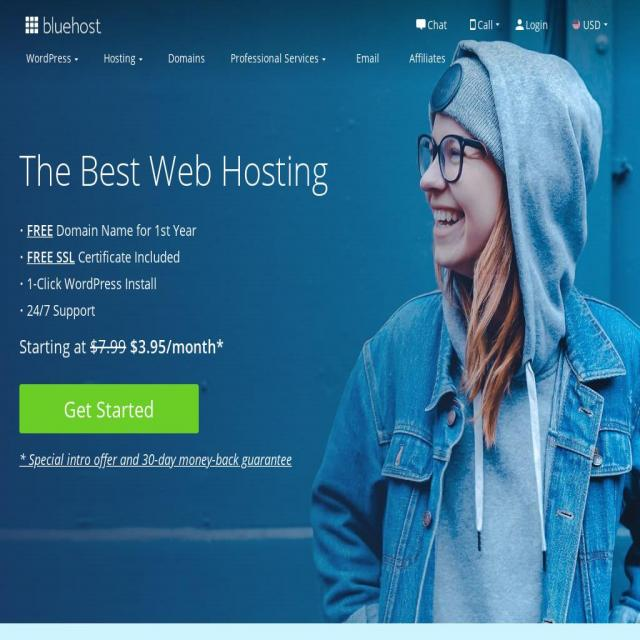chat-option: (410, 12, 452, 35)
login-option: (511, 10, 551, 40)
navigation-links: (19, 50, 450, 72)
